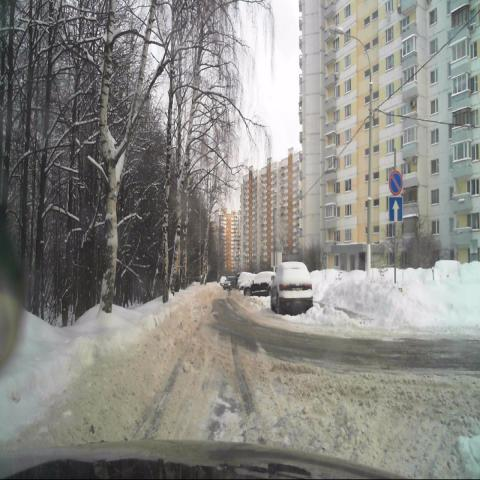3_28: (389, 169, 402, 196)
